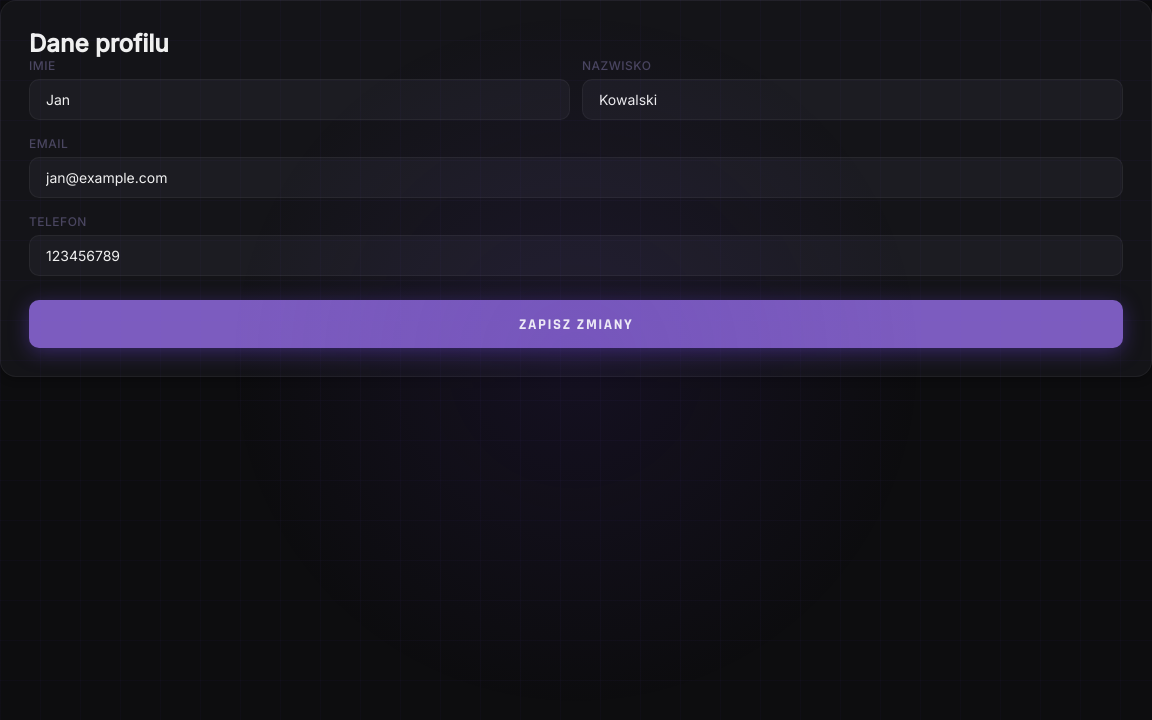
Test case: ProfileForm › aktualizuje profil
Step 1. Replace the text in the field showing "Jan" below "Imie" with "Adam" → (300,100), box 29,79 -> 570,120
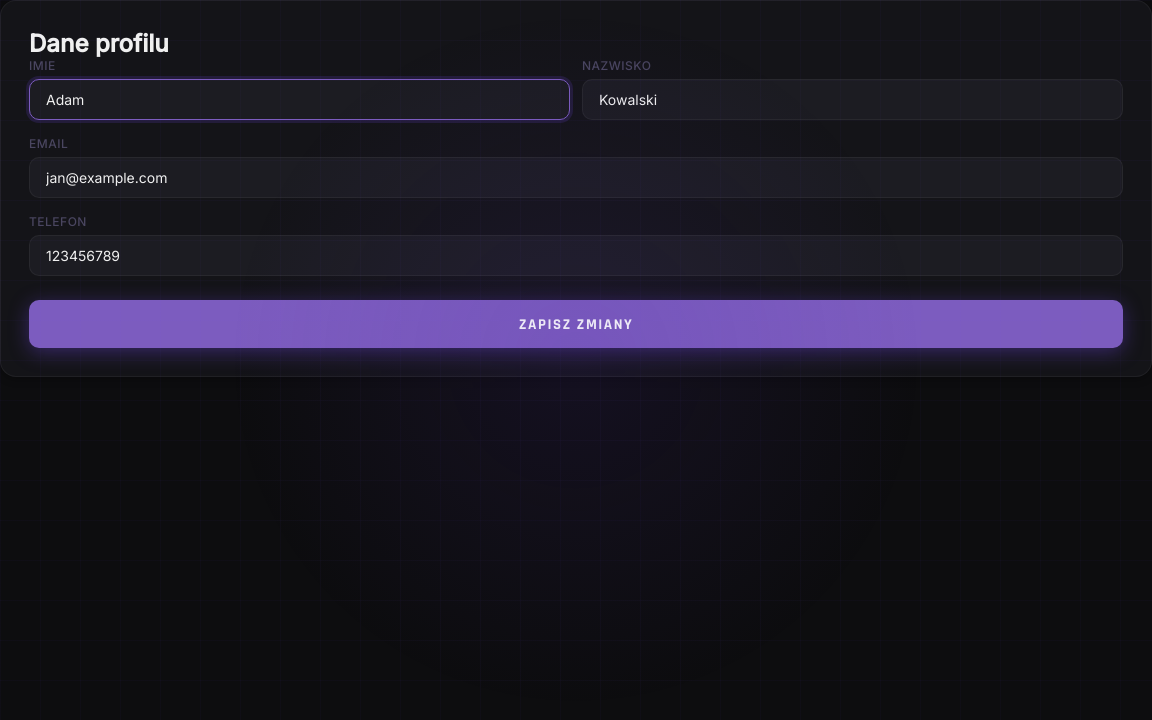
Step 2. Click the button "Zapisz zmiany" → (576,324), box 29,300 -> 1123,348
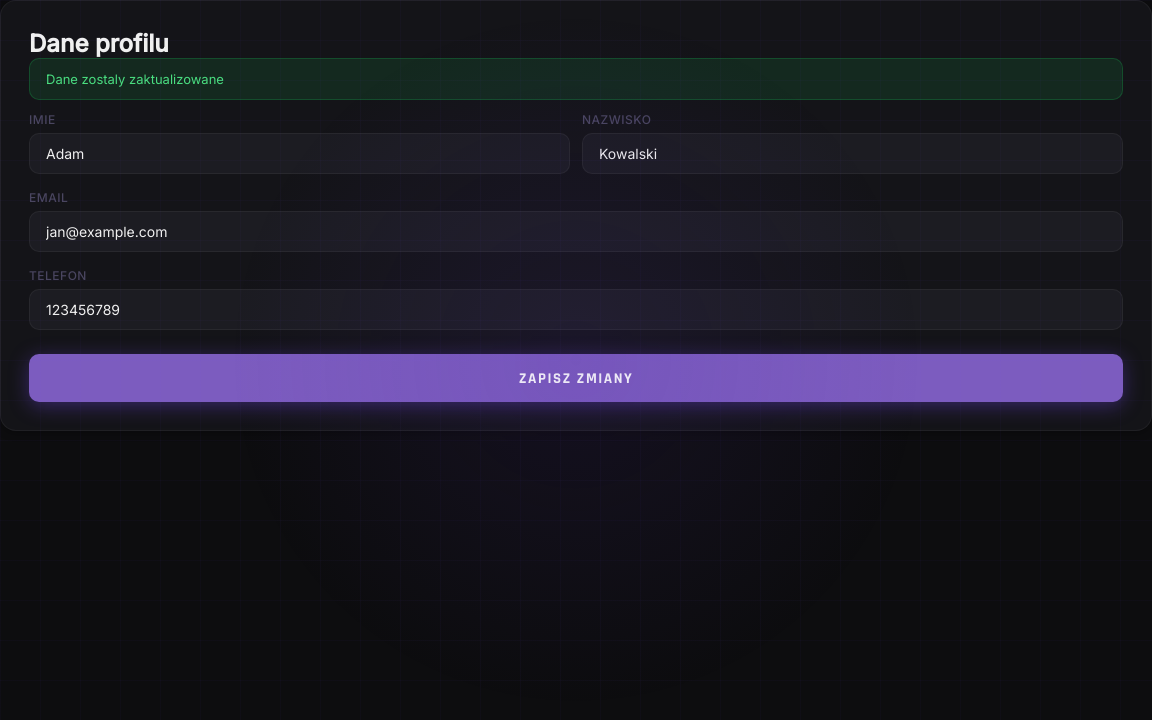
expect the text "Dane zostaly zaktualizowane" is shown: met, box 29,58 -> 1123,100
